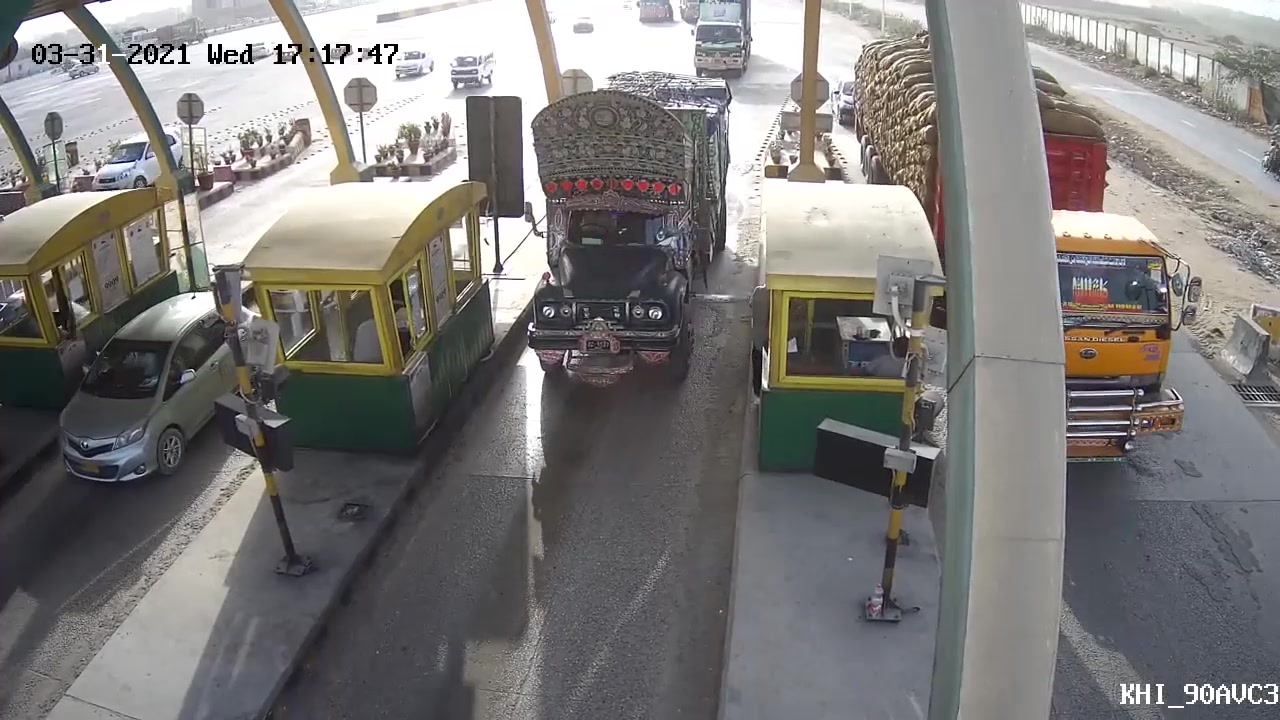F4: (509, 91, 709, 405)
